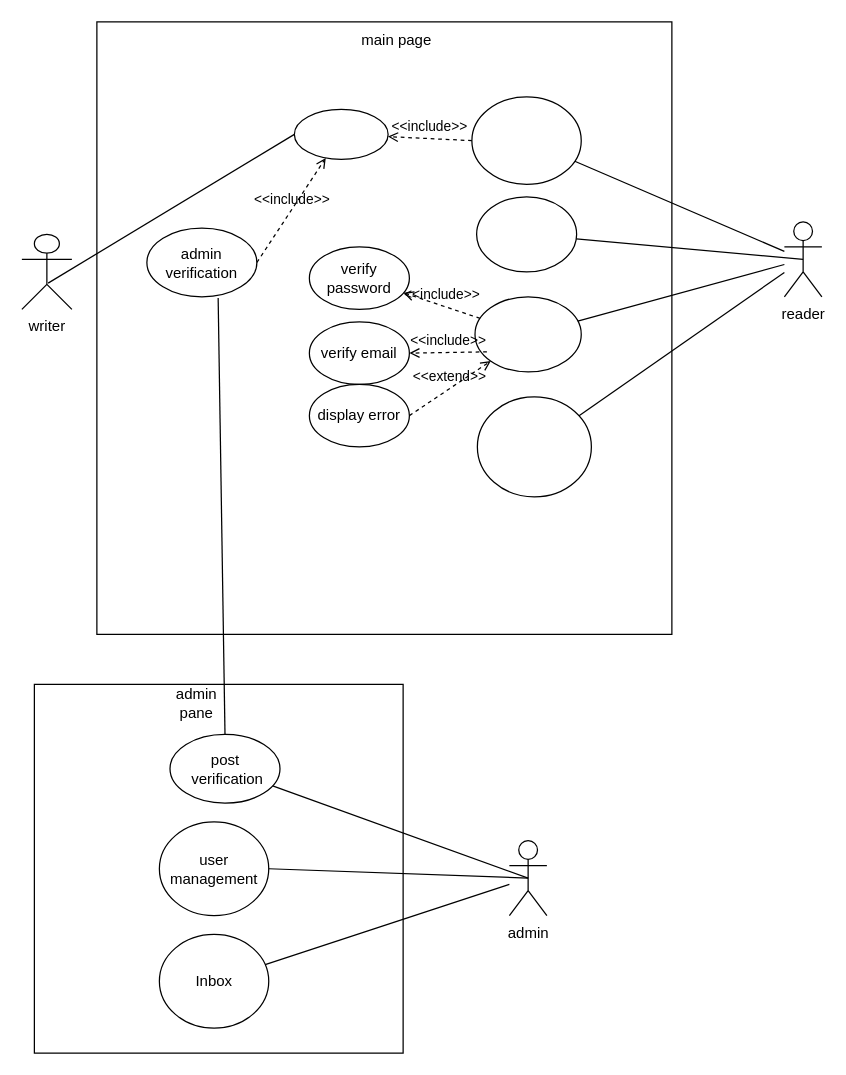
Image size: 846x1075. Some labels were removed from this diagram. Here are the shapes that lost their labels. From the top down, the centre of each, then its label:
At [340,133]: "posts".
At [526,140]: "Viewing the newest post".
At [526,234]: "selecting the targeted post".
At [527,334]: "Log in or Sign up".
At [533,446]: "Users can comment and vote like on Reddit".
